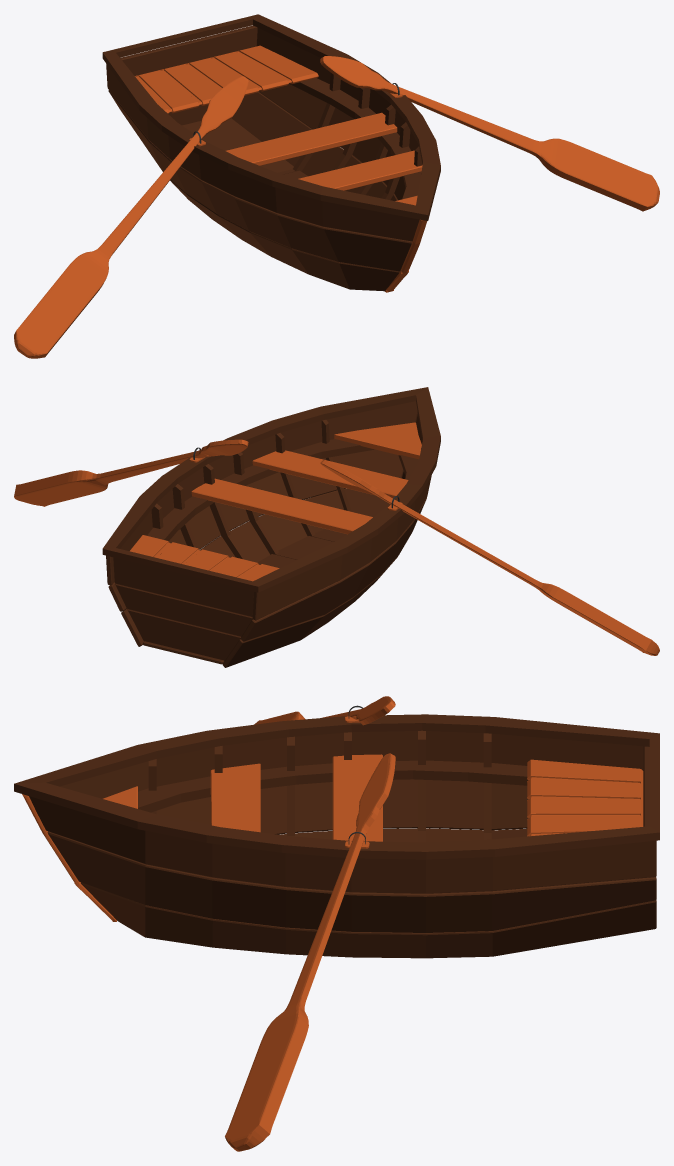
3 renders of one model, top to bottom at view 1: azimuth 30°, elevation 25°; view 2: azimuth 150°, elevation 25°; view 3: azimuth 270°, elevation 25°, orthographic. The views are drawn at different scales.
Visible parts, largest first — view 1: Cube.006, Boat_Top_Edge, Boat_Main_Shape.003, Boat_Main_Shape.002, Boat_Main_Shape.004, Cube.003, Cube, Boat_Back_Part.001, Cube.001, Boat_Main_Shape.001, Inner_Rim, Boat_Main_Shape (+1 smaller); view 2: Boat_Top_Edge, Boat_Main_Shape.002, Boat_Main_Shape.003, Cube.006, Boat_Main_Shape.004, Cube, Boat_Back_Part.001, Boat_Main_Shape.001, Boat_Back_Part.002, Inner_Rim, Boat_Back_Part.003, Cube.001 (+3 smaller); view 3: Boat_Main_Shape.002, Boat_Main_Shape.003, Boat_Top_Edge, Boat_Main_Shape.004, Cube.006, Cube.003, Inner_Rim, Cube, Cube.001, Boat_Main_Shape.001, Cube.004.
Boxes of the visible parts, <box> form: Cube.006: <box>14,56,659,358</box>; Boat_Top_Edge: <box>102,14,440,220</box>; Boat_Main_Shape.003: <box>108,84,412,271</box>; Boat_Main_Shape.002: <box>106,28,419,241</box>; Boat_Main_Shape.004: <box>170,92,399,291</box>; Cube.003: <box>135,45,318,113</box>; Cube: <box>226,112,397,165</box>; Boat_Back_Part.001: <box>120,25,257,75</box>; Cube.001: <box>298,150,422,190</box>; Boat_Main_Shape.001: <box>277,73,422,199</box>; Inner_Rim: <box>289,78,421,199</box>; Boat_Main_Shape: <box>182,118,307,178</box>; Boat_Top_Edge: <box>102,387,440,592</box>; Boat_Main_Shape.002: <box>106,401,431,620</box>; Boat_Main_Shape.003: <box>108,449,427,641</box>; Cube.006: <box>14,439,659,655</box>; Boat_Main_Shape.004: <box>121,488,397,667</box>; Cube: <box>191,478,372,534</box>; Boat_Back_Part.001: <box>113,557,253,616</box>; Boat_Main_Shape.001: <box>151,419,421,560</box>; Boat_Back_Part.002: <box>115,584,252,636</box>; Inner_Rim: <box>147,439,418,541</box>; Boat_Back_Part.003: <box>127,609,240,661</box>; Cube.001: <box>252,450,408,498</box>; Boat_Main_Shape.002: <box>29,731,656,893</box>; Boat_Main_Shape.003: <box>47,779,656,932</box>; Boat_Top_Edge: <box>14,714,659,859</box>; Boat_Main_Shape.004: <box>81,828,656,958</box>; Cube.006: <box>225,696,395,1151</box>; Cube.003: <box>527,759,643,836</box>; Inner_Rim: <box>138,760,528,812</box>; Cube: <box>332,754,382,841</box>; Cube.001: <box>210,763,260,832</box>; Boat_Main_Shape.001: <box>148,730,491,842</box>; Cube.004: <box>22,794,116,921</box>.
Bounding box in the file's own units: 10.29 × 2.67 × 6.88.
